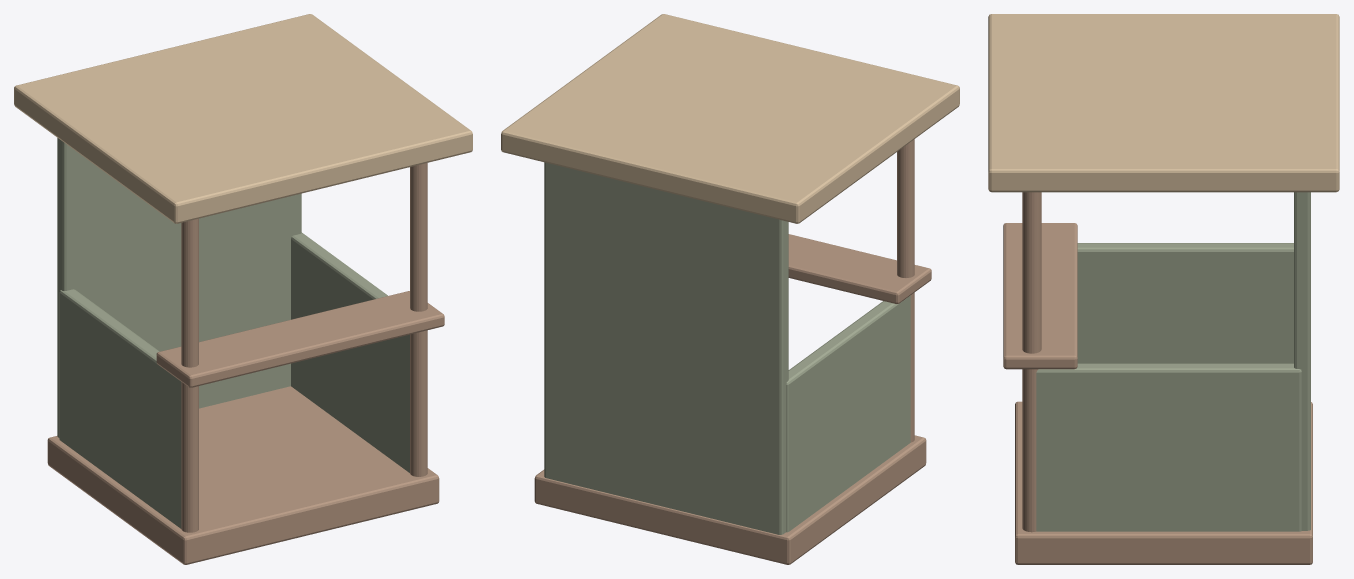
3 views of the same model, side by side, from view 1: azimuth 30°, elevation 25°; view 2: azimuth 150°, elevation 25°; view 3: azimuth 270°, elevation 25° (orthographic). The views are drawn at different scales.
Parts seen in each view (by area): view 1: roof, rear wall, booth floor, side lower wall, side lower wall.001, counter, corner post, corner post.001; view 2: rear wall, roof, side lower wall, booth floor, counter, corner post; view 3: roof, side lower wall.001, side lower wall, booth floor, counter, corner post.001, rear wall.
Part boxes in pixels (bbox=[...]): roof: bbox=[14, 14, 472, 223]; rear wall: bbox=[57, 138, 301, 437]; booth floor: bbox=[47, 386, 439, 564]; side lower wall: bbox=[59, 289, 181, 528]; side lower wall.001: bbox=[291, 232, 409, 472]; counter: bbox=[156, 291, 444, 387]; corner post: bbox=[181, 218, 198, 532]; corner post.001: bbox=[410, 163, 427, 476]; rear wall: bbox=[544, 162, 788, 534]; roof: bbox=[501, 14, 959, 223]; side lower wall: bbox=[786, 295, 910, 532]; booth floor: bbox=[534, 435, 926, 564]; counter: bbox=[788, 234, 931, 303]; corner post: bbox=[897, 139, 914, 442]; roof: bbox=[988, 14, 1339, 192]; side lower wall.001: bbox=[1036, 363, 1301, 531]; side lower wall: bbox=[1077, 243, 1293, 363]; booth floor: bbox=[1015, 401, 1312, 564]; counter: bbox=[1003, 223, 1077, 369]; corner post.001: bbox=[1022, 192, 1041, 532]; rear wall: bbox=[1294, 192, 1310, 530].
Size of the model in its own units: 1.75 by 2.11 by 1.65.
